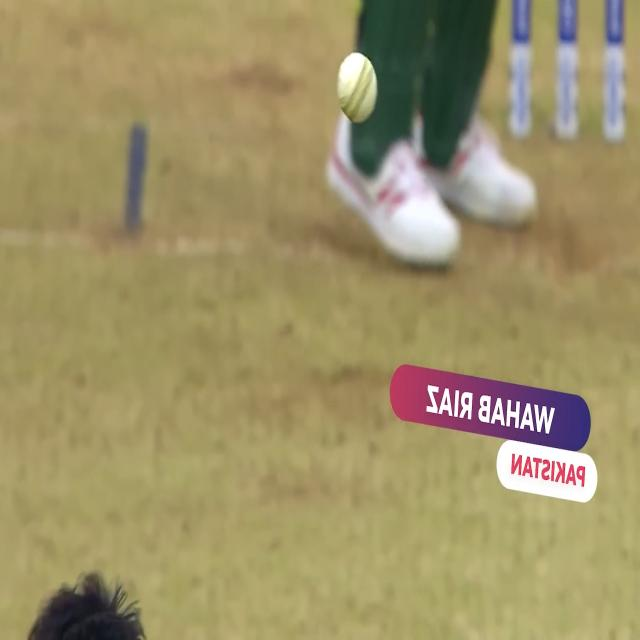ball: (326, 50, 380, 123)
